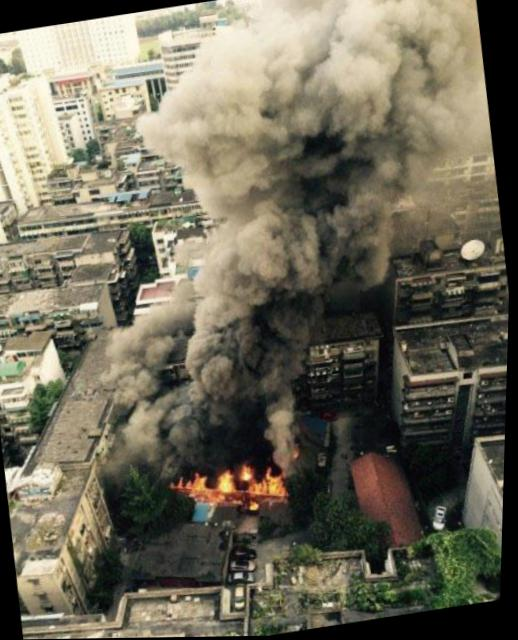fire: (250, 470, 290, 500), (214, 468, 247, 496), (192, 472, 213, 499), (240, 463, 260, 486)
